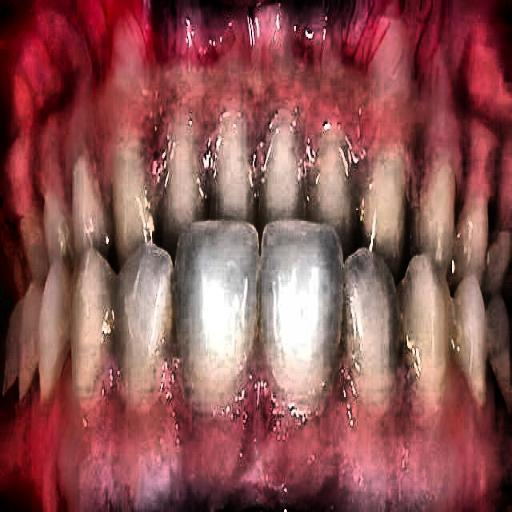Healthy: (34, 84, 510, 442)
